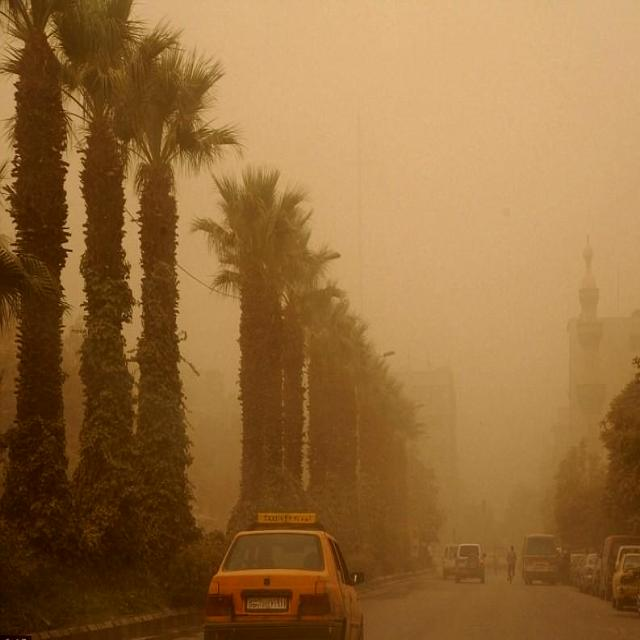Car: (197, 496, 358, 640), (615, 547, 639, 618), (454, 540, 484, 592), (564, 548, 587, 588), (580, 544, 599, 591), (437, 538, 457, 574)
Cycle: (503, 538, 518, 584)
Van: (514, 523, 562, 588)
